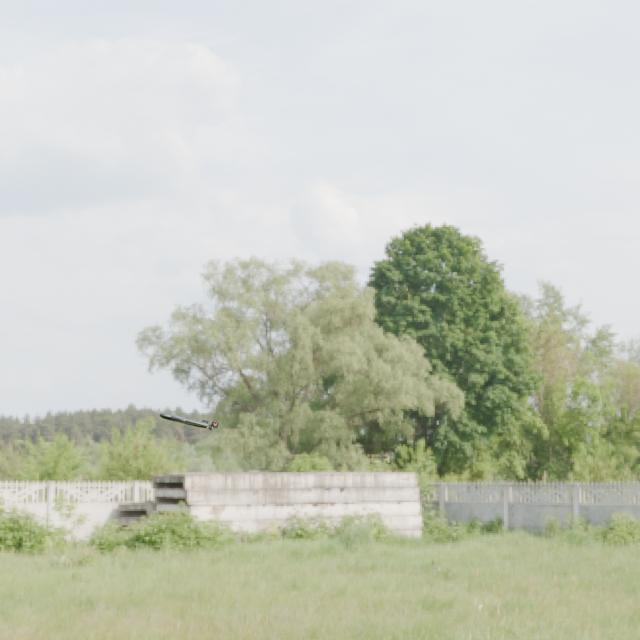Airaplan: (159, 413, 219, 430)
